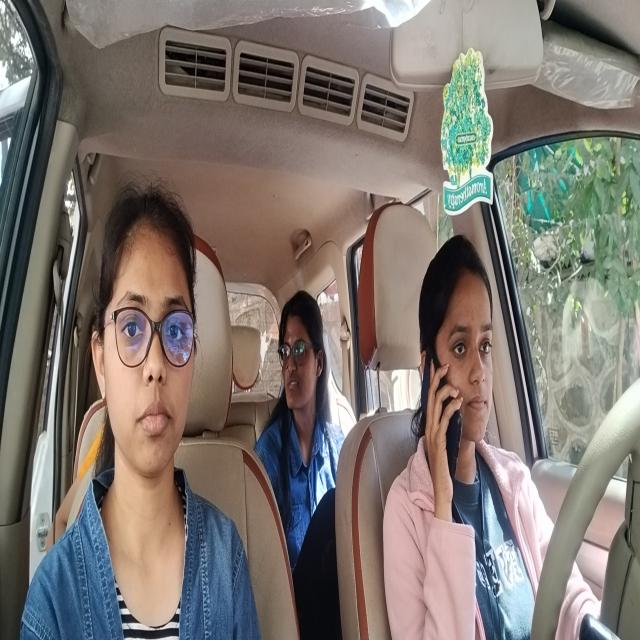mobile: (416, 358, 461, 480)
person: (101, 210, 201, 478), (422, 246, 496, 439), (280, 288, 322, 409)
